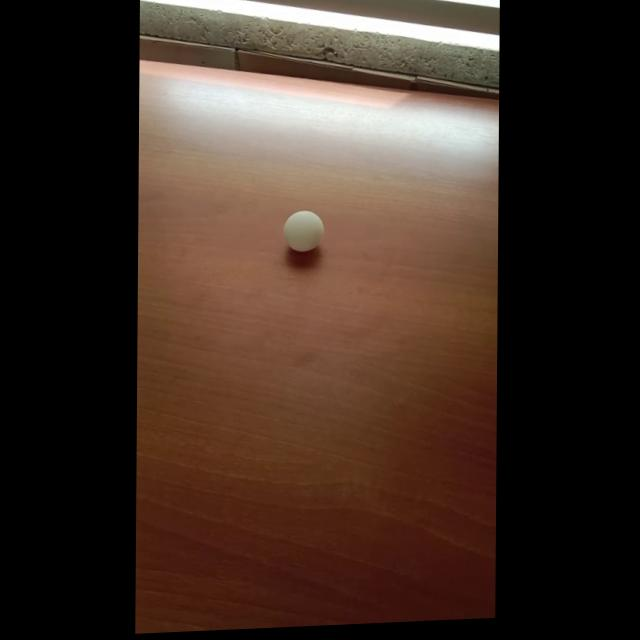white ball: (282, 209, 324, 252)
